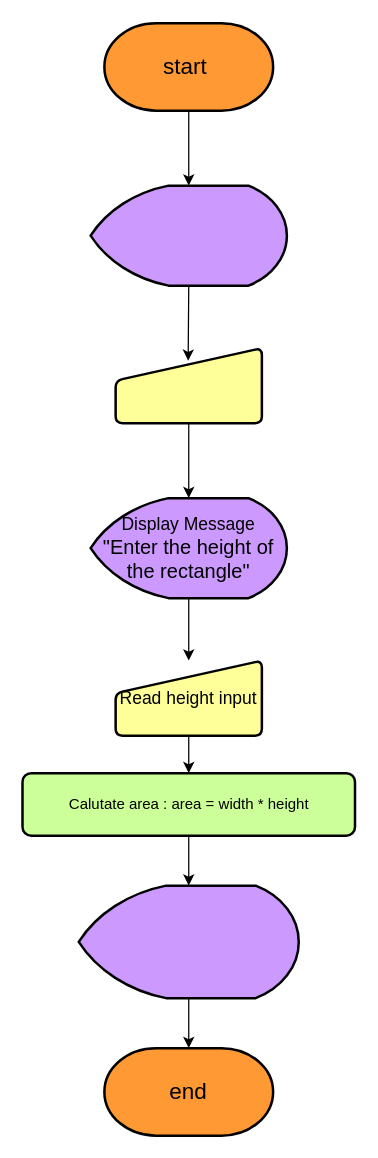
The diagram is 378 pixels wide and 1158 high, and some of its shapes have lost their labels. The centre of each missing label's shape, as x and y in pixels:
Display Message "Enter the with of the rectangle": point (188, 235)
Display Message "The area of the rectangle is", area: point (188, 941)
Read width input: point (188, 385)
